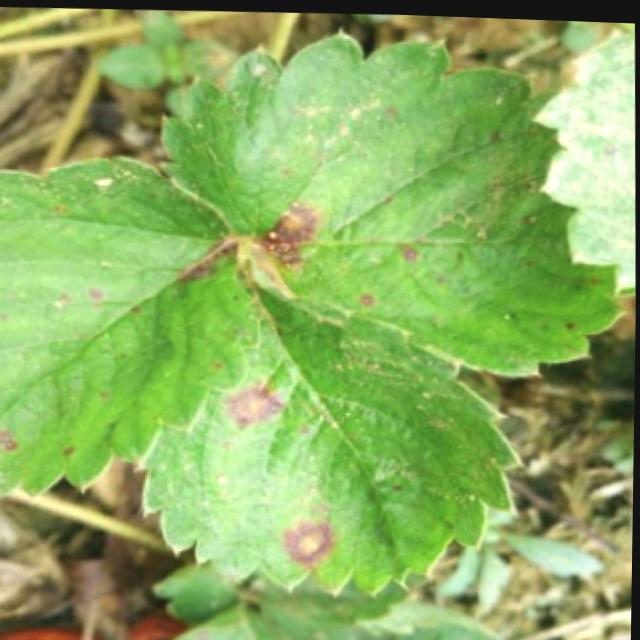Leaf Spot: (158, 23, 630, 375), (136, 273, 529, 600), (0, 151, 259, 500)
